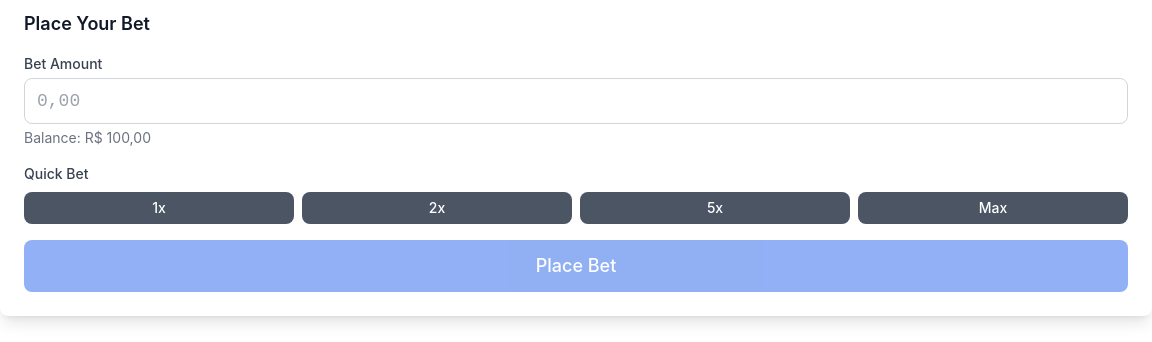
Test case: BetForm - Preservation Tests (Task 1.5) › Requirement 3.7: Quick bet buttons still work correctly › 1x button populates bet amount correctly
The image size is (1152, 342).
Click the button named "repeat last bet": [159, 208] box [24, 192, 294, 224]
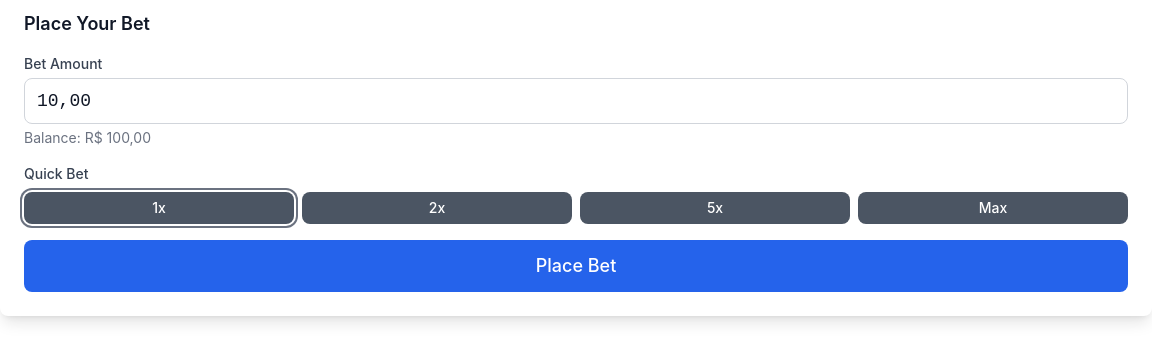
Now the field showing "10,00" is shown, box [24, 78, 1128, 124]
